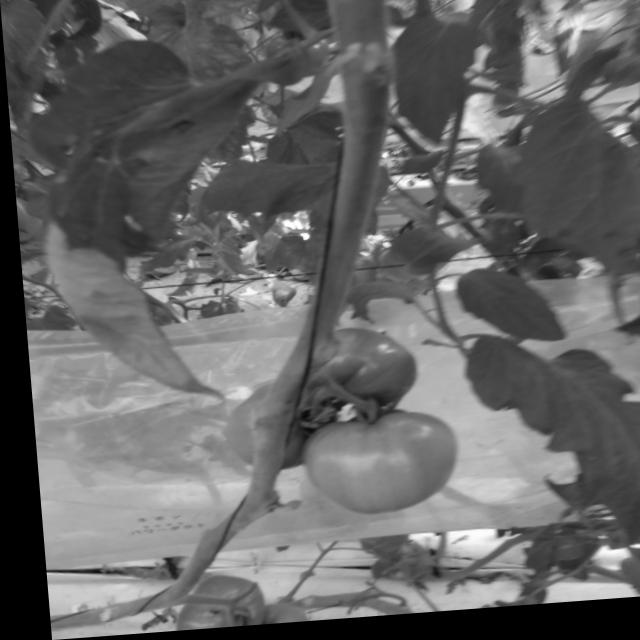yesil: (235, 286, 449, 529), (219, 296, 244, 328)
